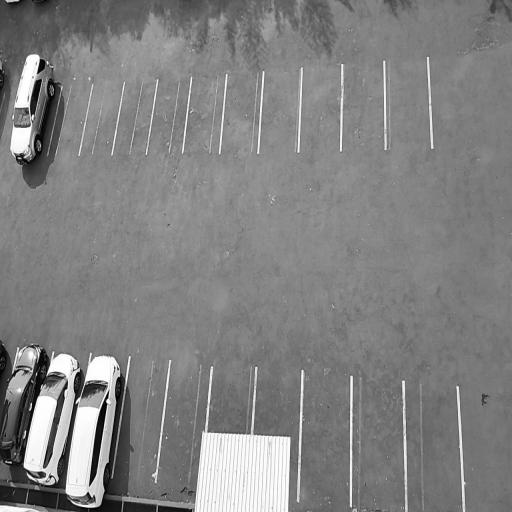Car: (56, 350, 130, 508), (21, 351, 87, 492), (4, 44, 64, 171), (0, 334, 51, 474)
Space Available: (403, 379, 463, 511), (112, 355, 171, 479), (298, 369, 351, 506), (351, 376, 406, 508), (156, 358, 206, 484), (385, 58, 432, 148), (299, 64, 344, 150), (206, 360, 258, 433), (110, 78, 158, 157), (220, 72, 264, 157), (342, 64, 385, 149), (253, 364, 302, 437), (258, 69, 302, 150), (146, 74, 191, 152), (47, 82, 93, 156), (78, 83, 125, 155), (182, 75, 226, 149)
